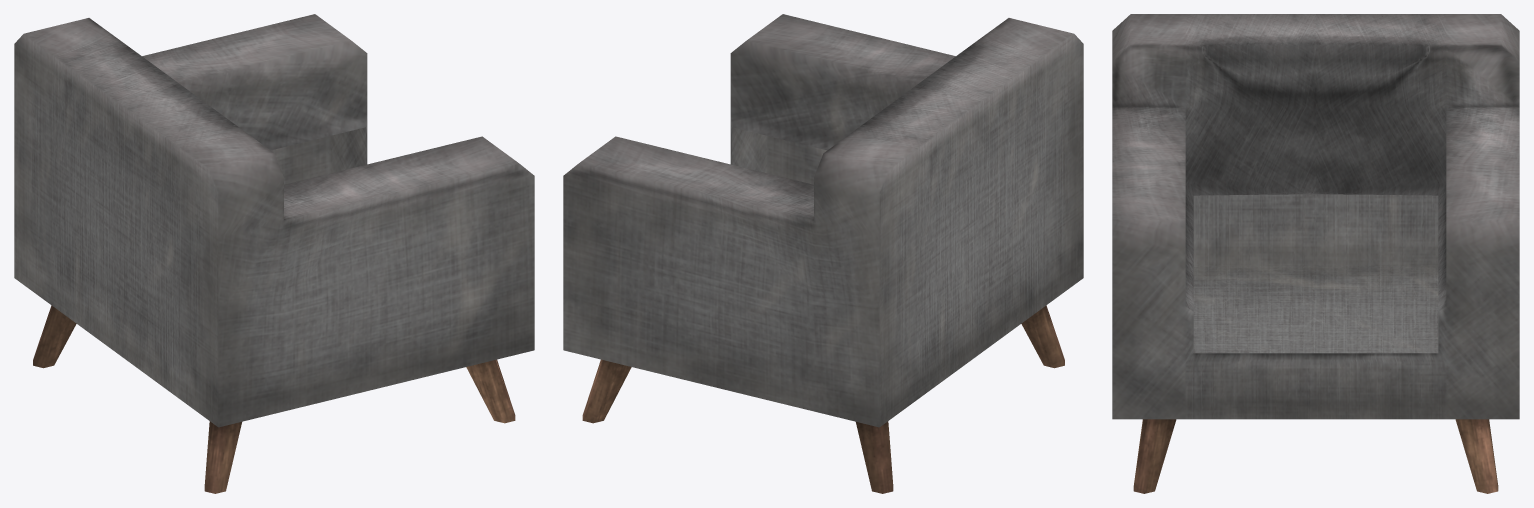
File: armchairgray.glb
3 renders of one model, left to right at view 1: azimuth 30°, elevation 25°; view 2: azimuth 150°, elevation 25°; view 3: azimuth 270°, elevation 25°, orthographic.
Parts seen in each view (by area): view 1: Object_30.002; view 2: Object_30.002; view 3: Object_30.002.
Boxes of the visible parts, x1,y1,x2,y2 form: Object_30.002: (14, 14, 534, 493); Object_30.002: (563, 14, 1083, 493); Object_30.002: (1112, 14, 1519, 493).
Size of the model in its own units: 0.6966 by 0.69 by 0.7787.
1 material, 1 textured.
